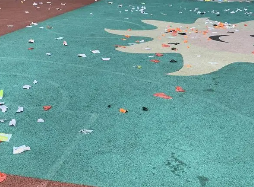garbage: (170, 3, 218, 17), (209, 19, 242, 37), (158, 25, 192, 41), (145, 85, 174, 101), (193, 23, 218, 40), (219, 6, 253, 18), (153, 39, 182, 52), (28, 1, 63, 11), (110, 41, 134, 54), (8, 141, 34, 152), (127, 1, 149, 13), (50, 33, 73, 44), (76, 126, 98, 137), (21, 20, 40, 31), (145, 55, 161, 65), (117, 4, 129, 16), (92, 49, 106, 59), (1, 18, 13, 29), (169, 86, 190, 92), (177, 61, 191, 70), (1, 132, 12, 143), (245, 46, 254, 59), (169, 56, 179, 67), (71, 53, 86, 60), (19, 4, 30, 13), (38, 104, 52, 111), (18, 84, 32, 91), (99, 56, 112, 63), (36, 116, 47, 124), (117, 106, 130, 112), (1, 101, 6, 116), (27, 37, 35, 45), (11, 116, 16, 128), (14, 107, 22, 114), (125, 31, 131, 40), (29, 80, 39, 85), (42, 52, 51, 57), (1, 90, 4, 99)
